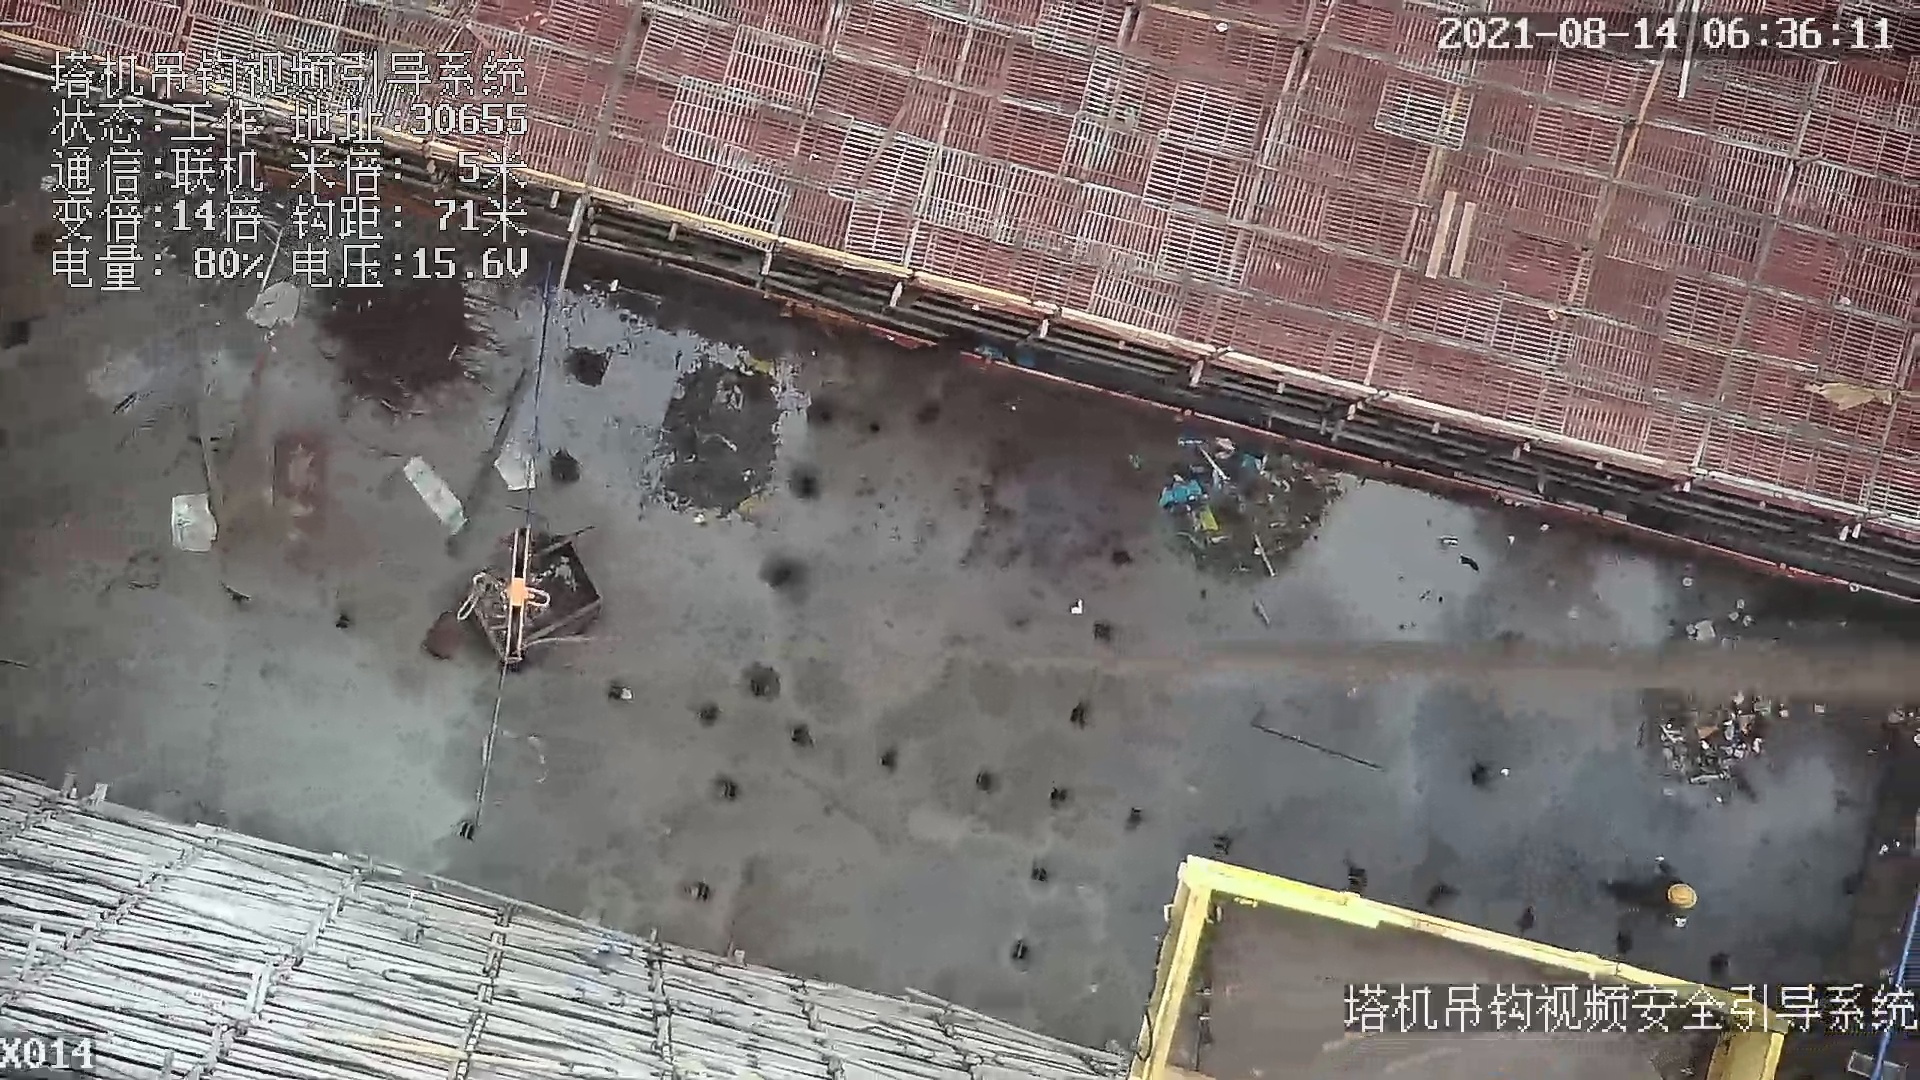helmet: (1668, 880, 1703, 915)
hook: (503, 518, 546, 671)
hopper: (465, 528, 601, 678)
person: (1617, 842, 1704, 937)
